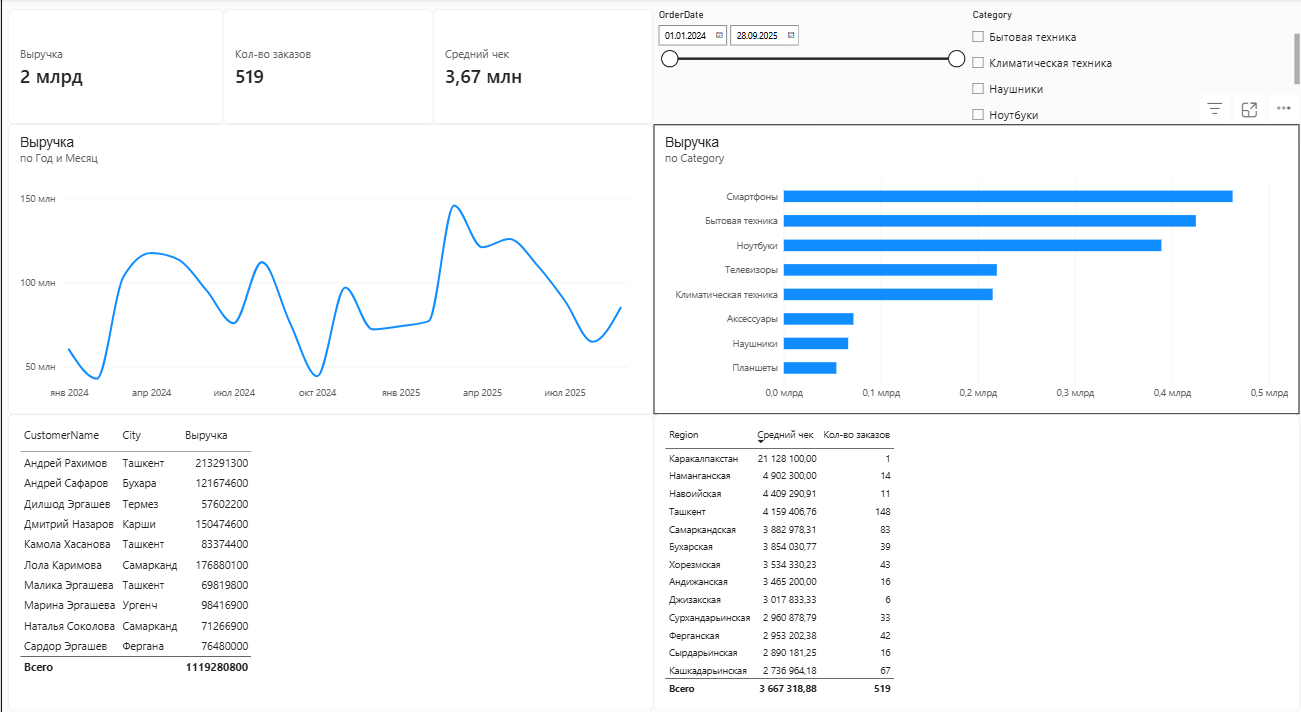

This screenshot's page, from the dashboard's own definition file:
{"tool":"powerbi","page":{"name":"Страница 1","canvas":[1920,1080],"ordinal":0},"visuals":[{"type":"cardVisual","fields":{"Data":["Orders.Выручка"]},"box":[11,16.6,316.6,169.3],"z":0},{"type":"cardVisual","fields":{"Data":["Orders.Кол-во заказов"]},"box":[327.6,16.6,309.2,169.3],"z":1},{"type":"cardVisual","fields":{"Data":["Orders.Средний чек"]},"box":[636.8,16.6,323.9,169.3],"z":2},{"type":"lineChart","fields":{"Category":["Orders.OrderDate.Variation.Иерархия дат.Год","Orders.OrderDate.Variation.Иерархия дат.Месяц"],"Y":["Orders.Выручка"]},"box":[11,185.9,949.7,427],"z":3},{"type":"barChart","fields":{"Category":["Products.Category"],"Y":["Orders.Выручка"]},"box":[960.7,185.9,951.5,427],"z":4},{"type":"tableEx","fields":{"Values":["Customers.CustomerName","Customers.City","Orders.Выручка"]},"box":[11,612.9,949.7,436.2],"z":5},{"type":"tableEx","fields":{"Values":["Orders.Region","Orders.Средний чек","Orders.Кол-во заказов"]},"box":[960.7,612.9,951.5,436.2],"z":6},{"type":"slicer","fields":{"Values":["Orders.OrderDate"]},"box":[960.7,16.6,462,169.3],"z":7},{"type":"slicer","fields":{"Values":["Products.Category"]},"box":[1422.7,16.6,489.6,169.3],"z":8}]}

Visuals, with their boxes in screenshot pixels (x1, y1, x2, y2), scaled from the page's 1920x1080 canvas onto the 1301x712 screenshot:
cardVisual - Orders.Выручка: detection(7, 11, 222, 123)
cardVisual - Orders.Кол-во заказов: detection(222, 11, 431, 123)
cardVisual - Orders.Средний чек: detection(431, 11, 651, 123)
lineChart - Orders.OrderDate.Variation.Иерархия дат.Год x Orders.OrderDate.Variation.Иерархия дат.Месяц: detection(7, 123, 651, 404)
barChart - Products.Category x Orders.Выручка: detection(651, 123, 1296, 404)
tableEx - Customers.CustomerName x Customers.City: detection(7, 404, 651, 692)
tableEx - Orders.Region x Orders.Средний чек: detection(651, 404, 1296, 692)
slicer - Orders.OrderDate: detection(651, 11, 964, 123)
slicer - Products.Category: detection(964, 11, 1296, 123)
